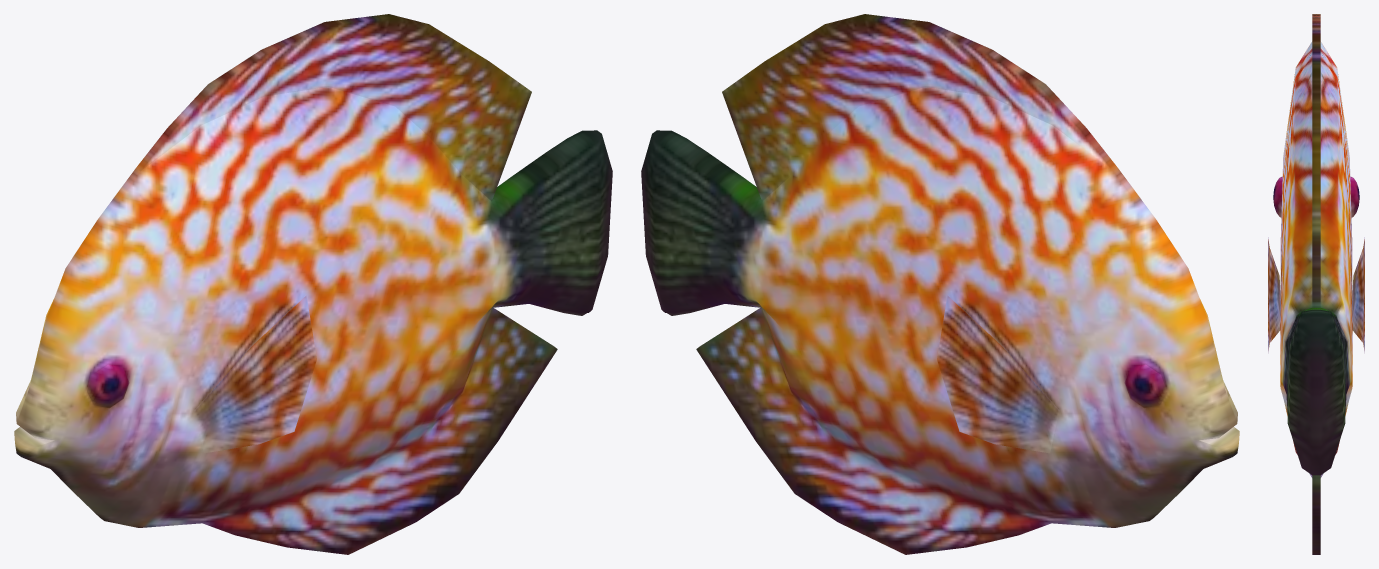
Rendered from discus.glb.
3 views of the same model, side by side, from view 1: azimuth 30°, elevation 25°; view 2: azimuth 150°, elevation 25°; view 3: azimuth 270°, elevation 25° (orthographic). The views are drawn at different scales.
Visible parts, largest first — view 1: Object_2; view 2: Object_2; view 3: Object_2.
Boxes of the visible parts, x1,y1,x2,y2 form: Object_2: [14, 14, 612, 554]; Object_2: [641, 14, 1239, 554]; Object_2: [1268, 14, 1364, 554].
Bounding box in the file's own units: 4.63 × 3.99 × 0.7104.
1 material, 1 textured.
